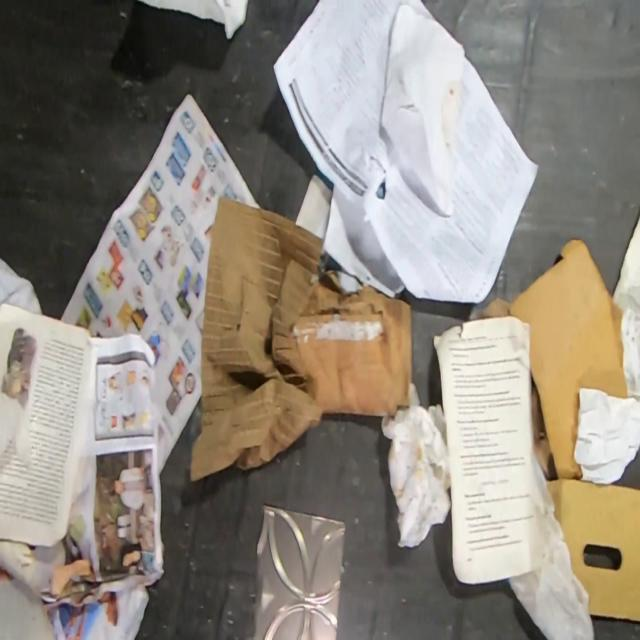cardboard: (187, 194, 412, 483), (469, 237, 630, 481), (544, 481, 639, 623)
metal: (254, 502, 345, 640)
